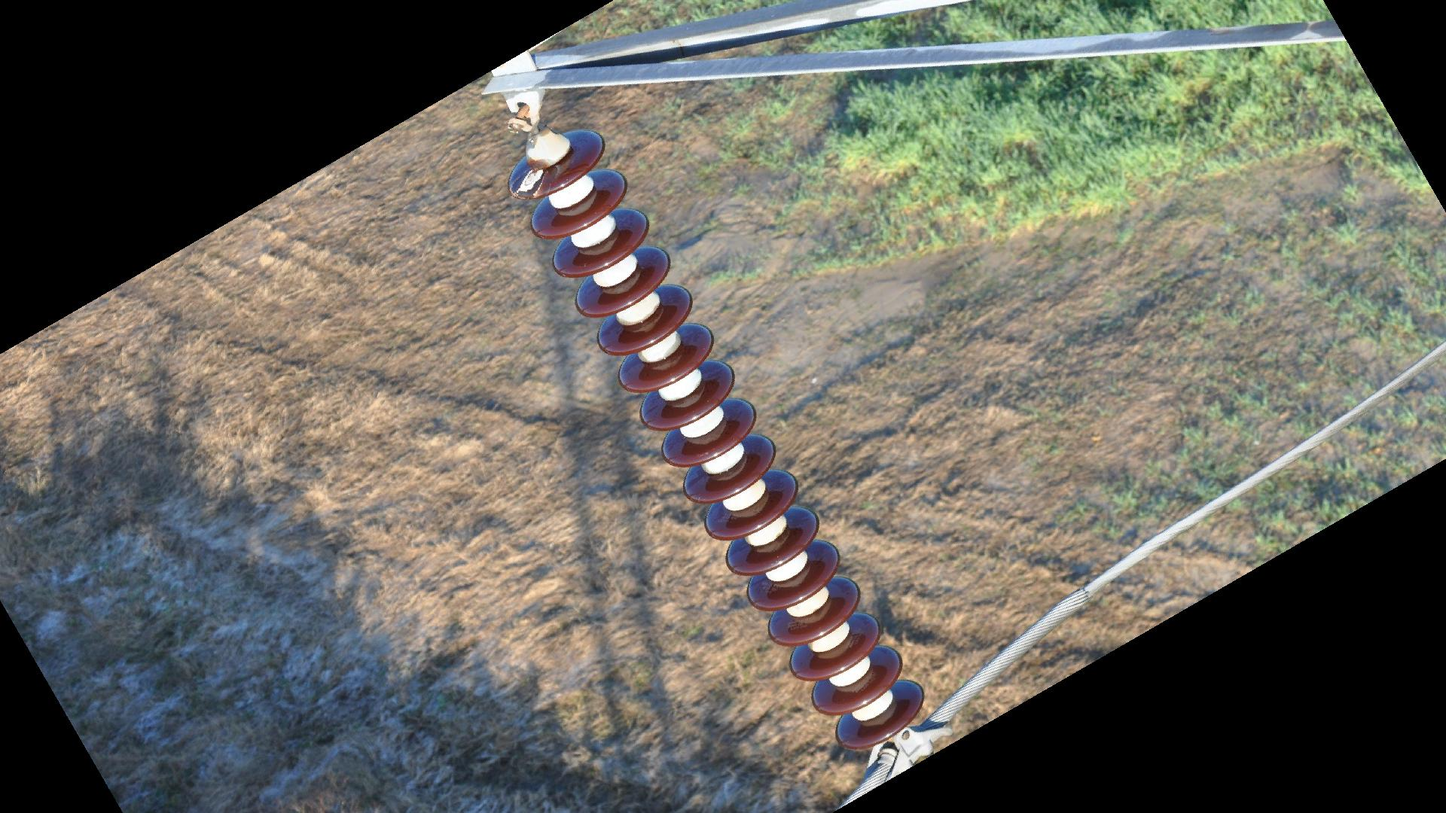insulator: (500, 120, 930, 760)
insulator_flashover: (512, 166, 548, 202)
